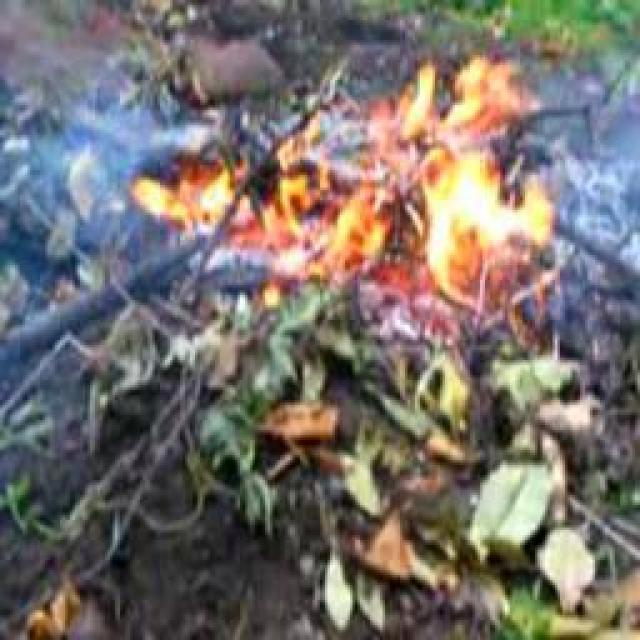Fire: (350, 61, 554, 308), (141, 141, 388, 285)
